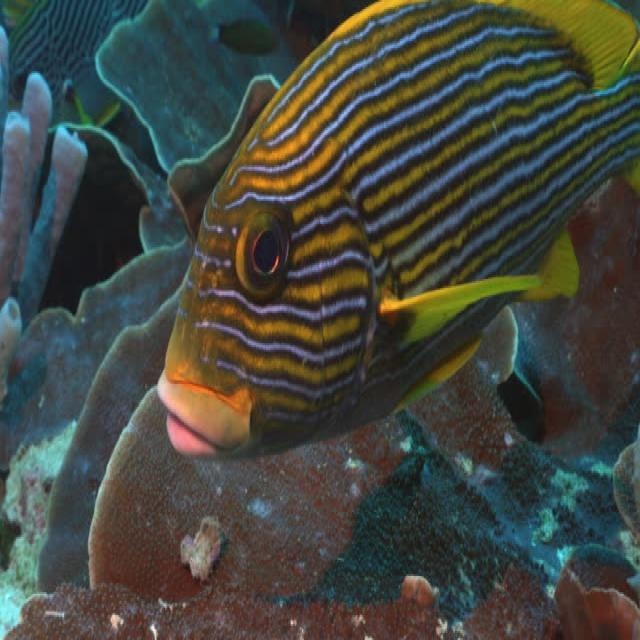RibbonedSweetlips: (154, 0, 639, 460)
